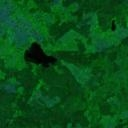alloviz: (23, 40, 58, 68), (109, 18, 117, 32)
